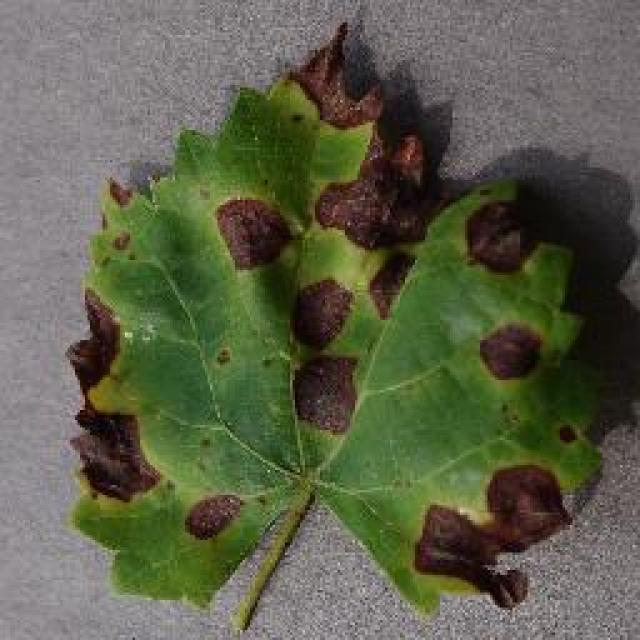Grape___Black_rot: (60, 21, 608, 635)
